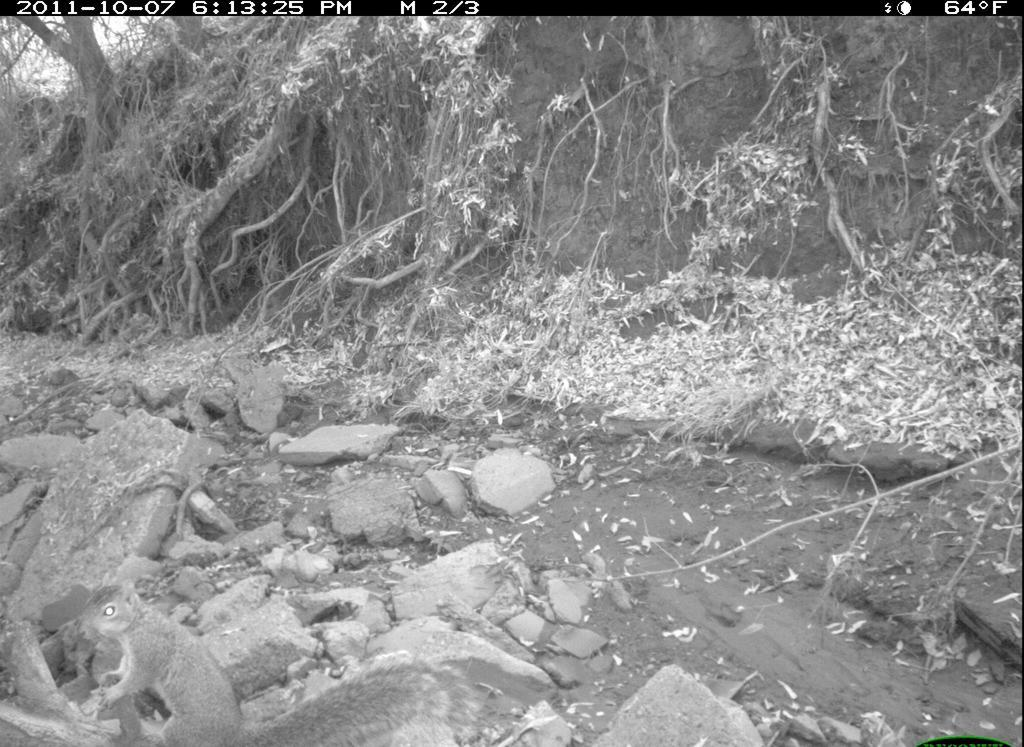squirrel: (81, 578, 506, 747)
